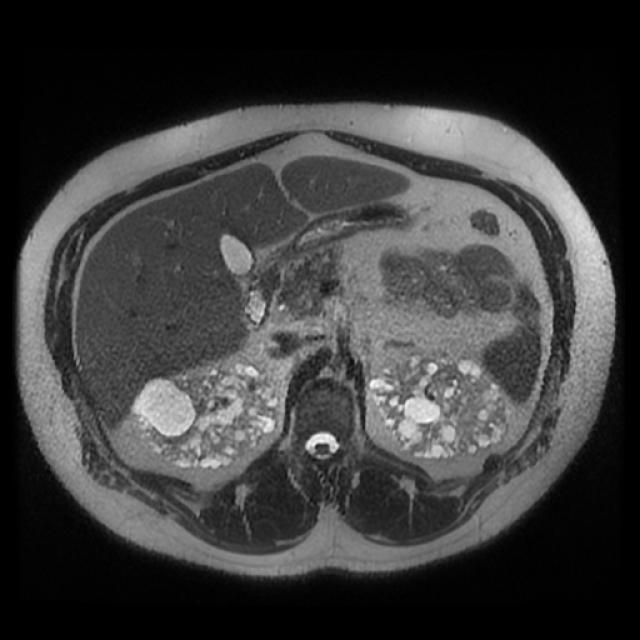sag: (130, 362, 279, 470)
sol: (368, 351, 508, 460)
